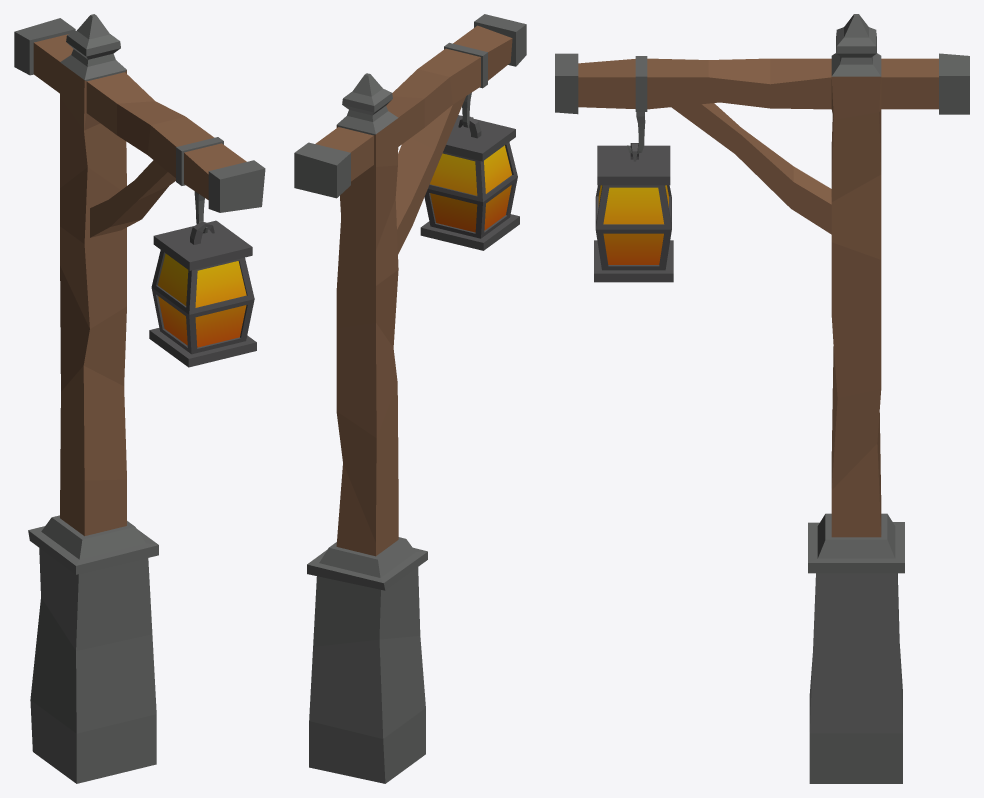
File: Lamp_1.fbx
The picture shows the model from 3 angles, left to right: view 1: azimuth 30°, elevation 25°; view 2: azimuth 150°, elevation 25°; view 3: azimuth 270°, elevation 25°; orthographic projection. The views are drawn at different scales.
Parts seen in each view (by area): view 1: Lamp_1; view 2: Lamp_1; view 3: Lamp_1.
Boxes of the visible parts, bbox=[...] form: Lamp_1: bbox=[14, 14, 265, 783]; Lamp_1: bbox=[294, 14, 526, 783]; Lamp_1: bbox=[555, 14, 969, 783].
Size of the model in its own units: 28.34 by 242 by 121.
